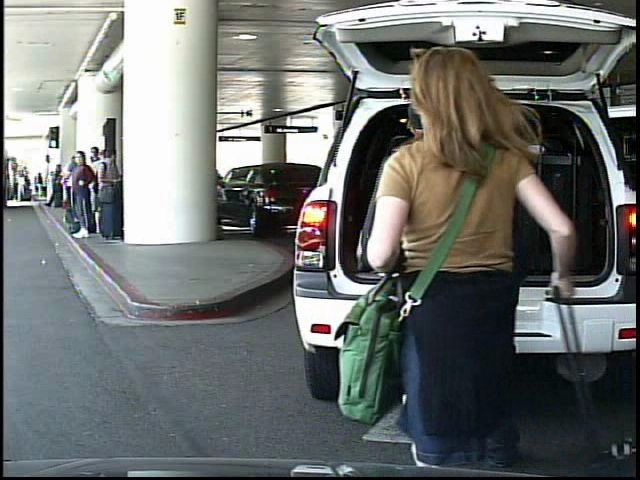person: (359, 38, 560, 478), (384, 71, 551, 459), (16, 174, 27, 205), (35, 172, 46, 199)
